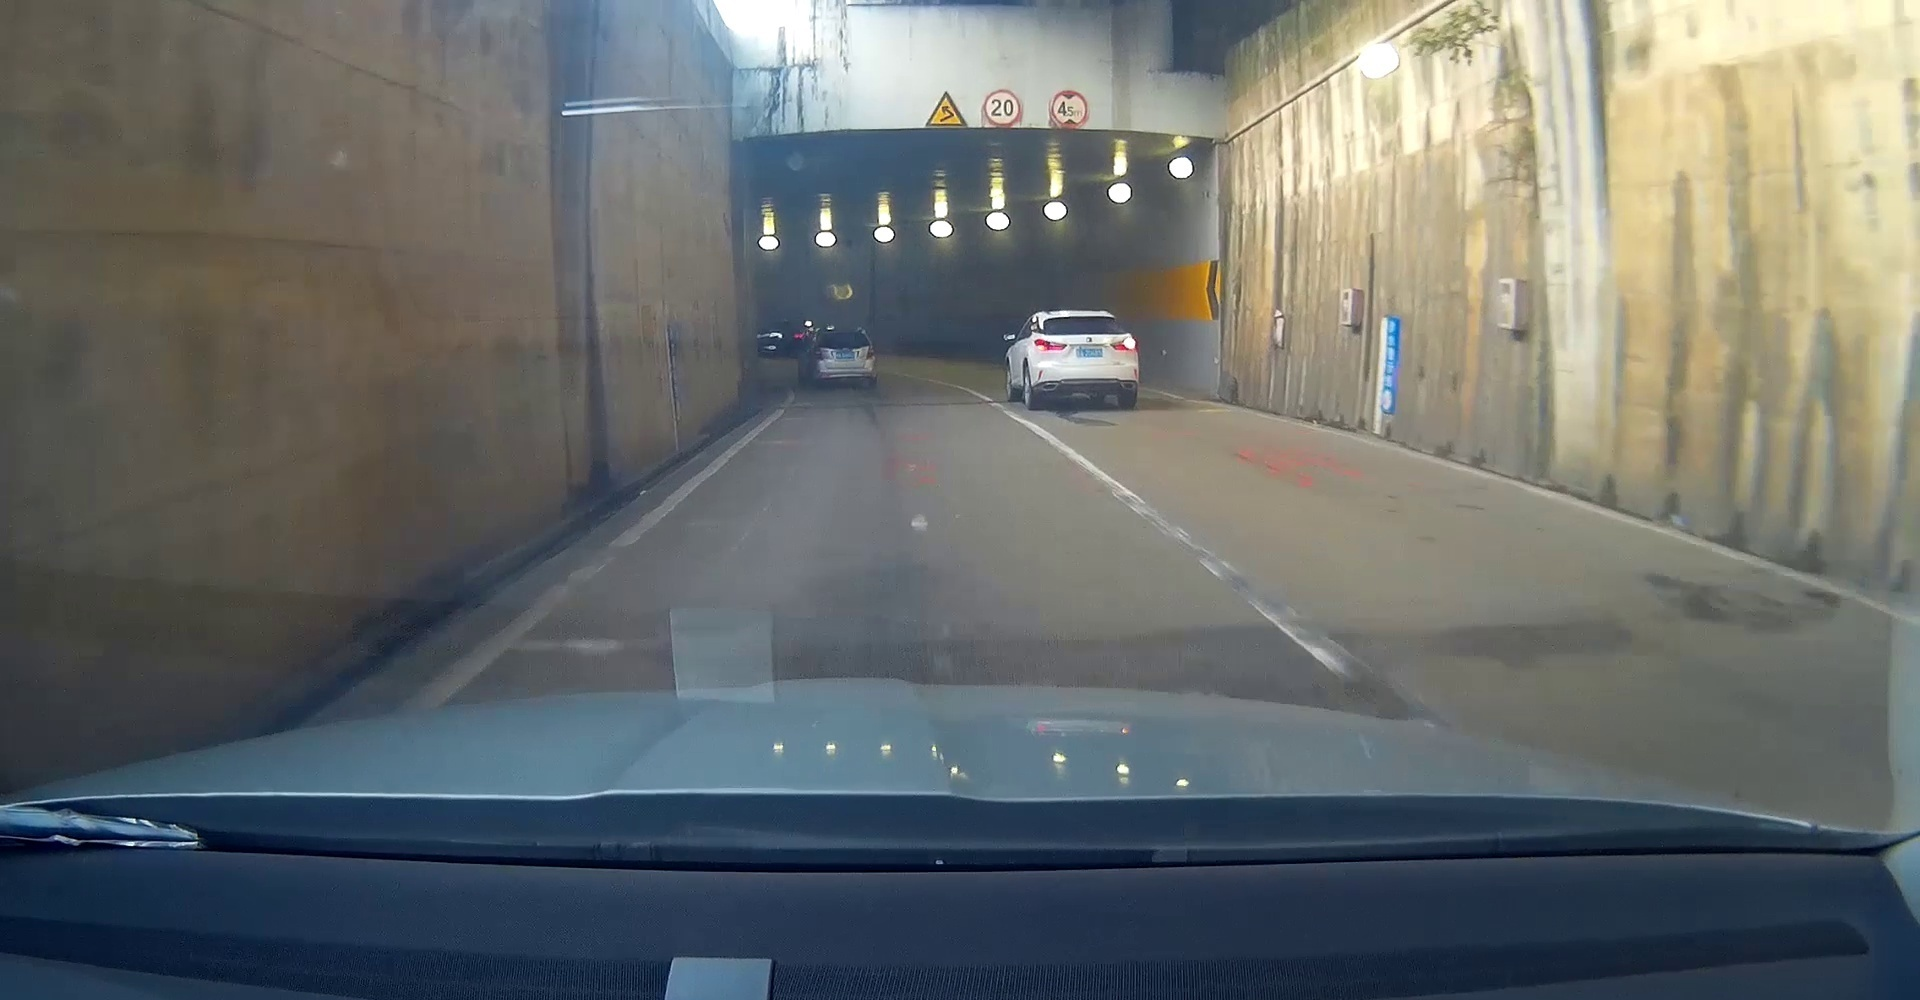L_light: (1034, 339, 1067, 352), (813, 346, 822, 360)
R_light: (1110, 339, 1137, 352), (865, 346, 874, 359)
T_light: (1078, 317, 1091, 320), (837, 332, 848, 335)
day-no: (811, 329, 876, 388)
day-right: (1031, 312, 1138, 409)
